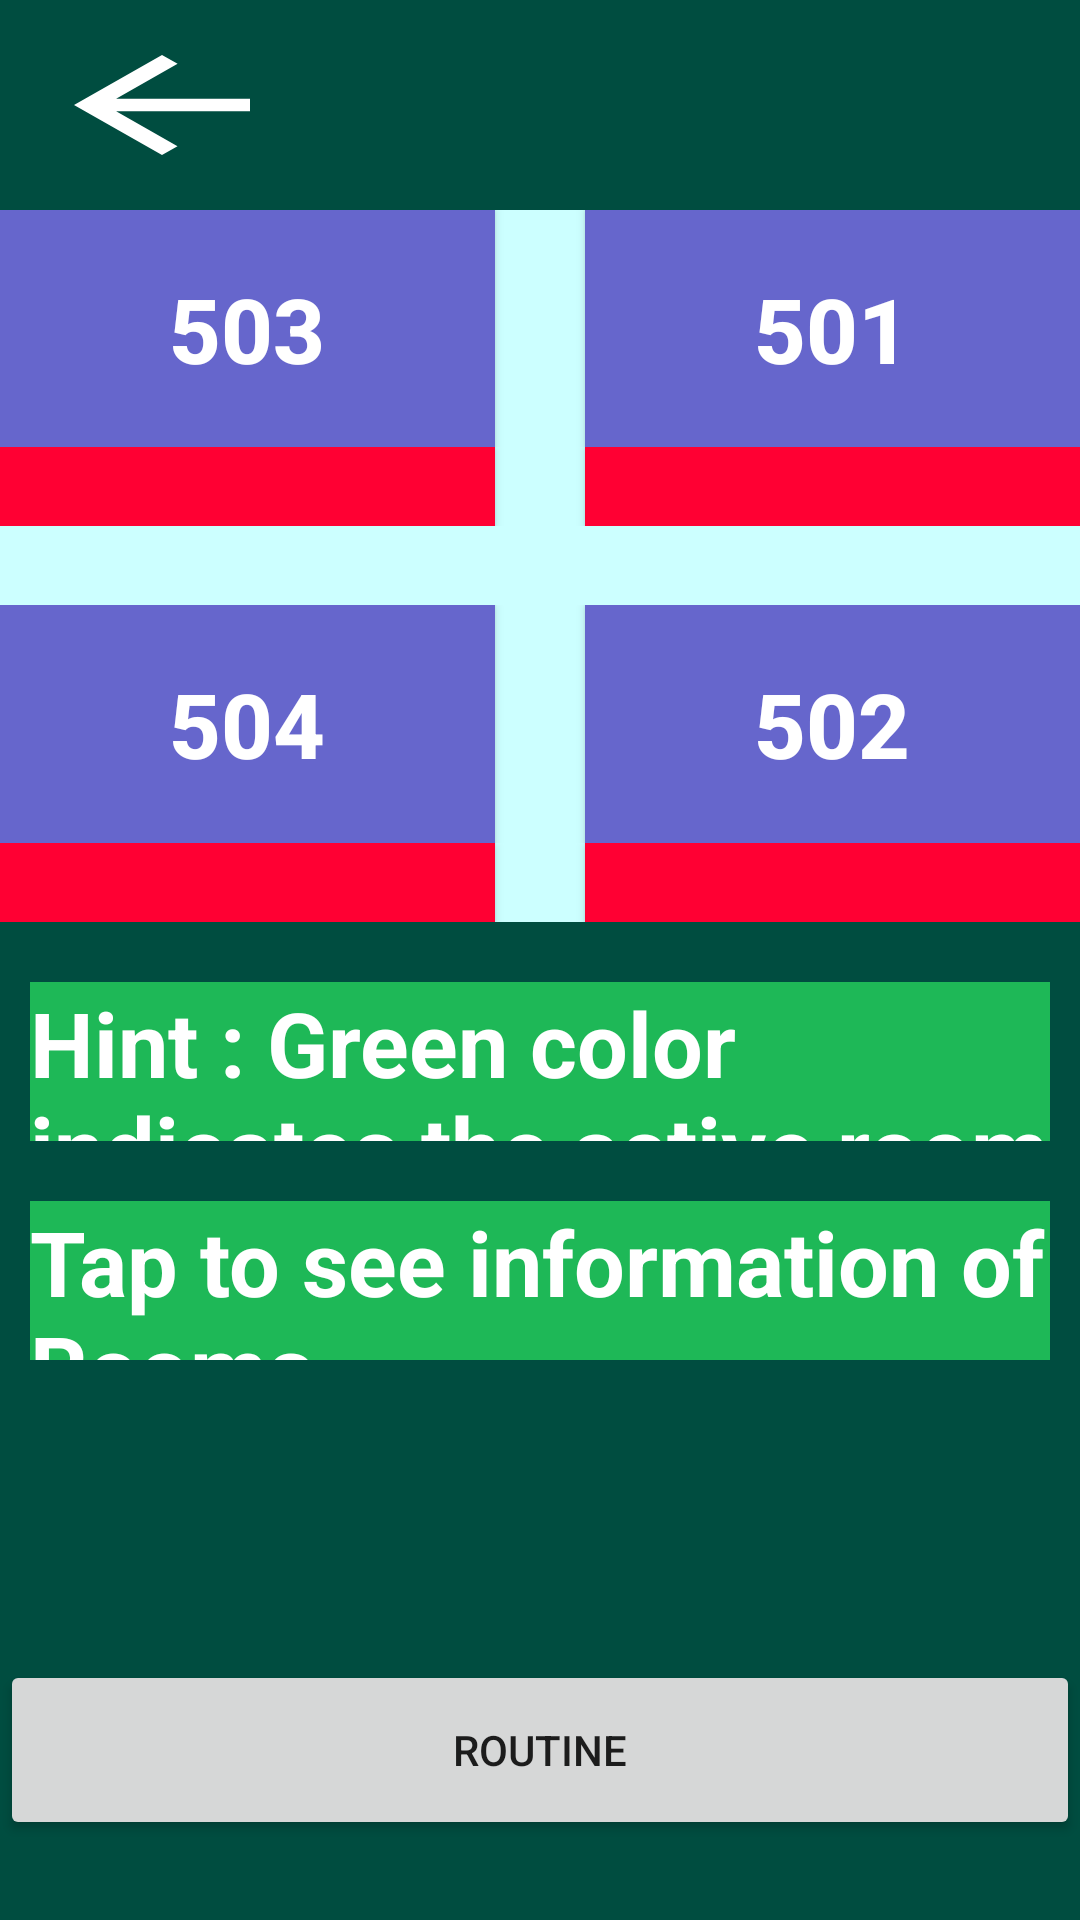

Icon click points for this 1080*1920 phone screenshot, format (x,y):
arrow: (162,105)
